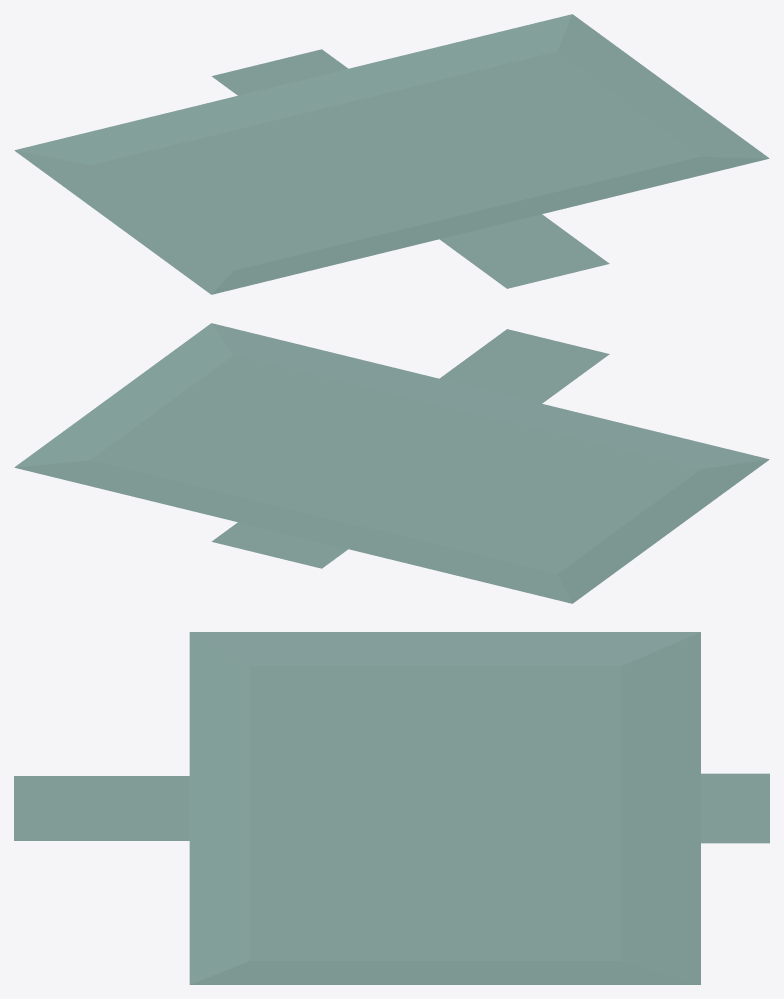
File: SeiryuStage2.fbx
3 views of the same model, one above another, from view 1: azimuth 30°, elevation 25°; view 2: azimuth 150°, elevation 25°; view 3: azimuth 270°, elevation 25° (orthographic). The views are drawn at different scales.
Parts seen in each view (by area): view 1: Plane.003; view 2: Plane.003; view 3: Plane.003.
Boxes of the visible parts, x1=… form: Plane.003: x1=14, y1=14, x2=769, y2=294; Plane.003: x1=14, y1=323, x2=769, y2=603; Plane.003: x1=14, y1=632, x2=769, y2=984.
Size of the model in its own units: 15.96 by 0.1066 by 14.45.
